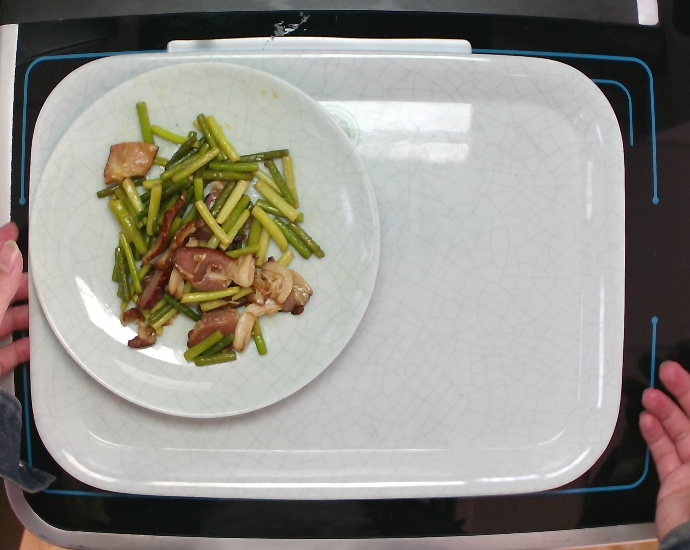JYsf-Da_Yuan_Pan: (23, 54, 385, 425)
